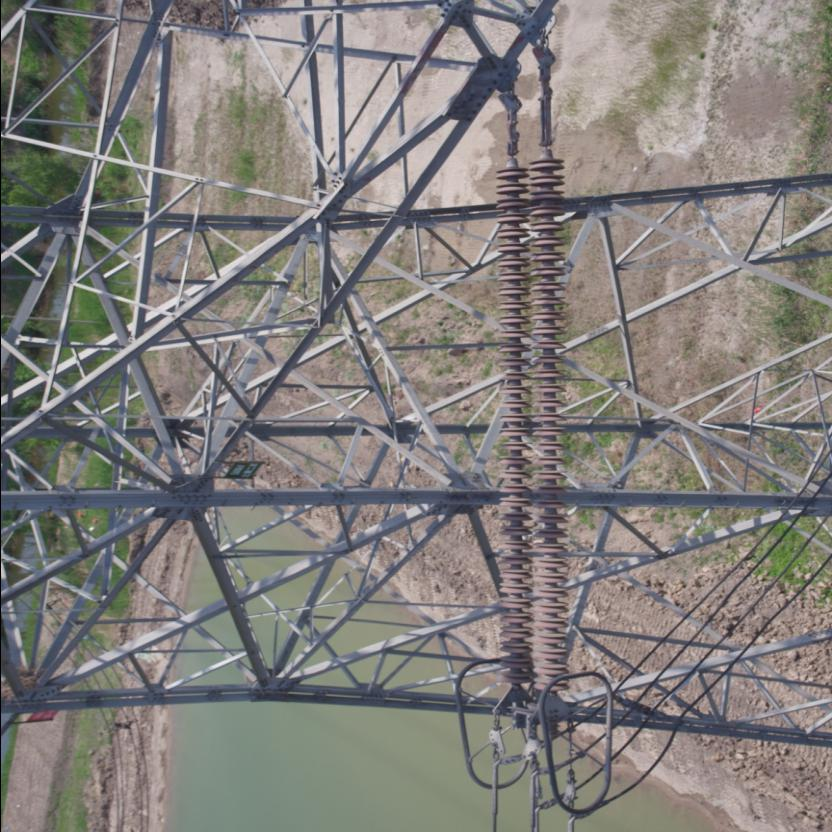insulator: (490, 120, 572, 706)
